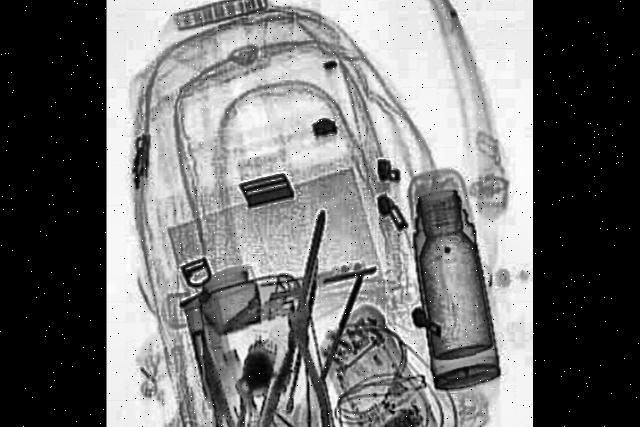Pliers: (256, 278, 335, 427), (187, 328, 251, 427)
